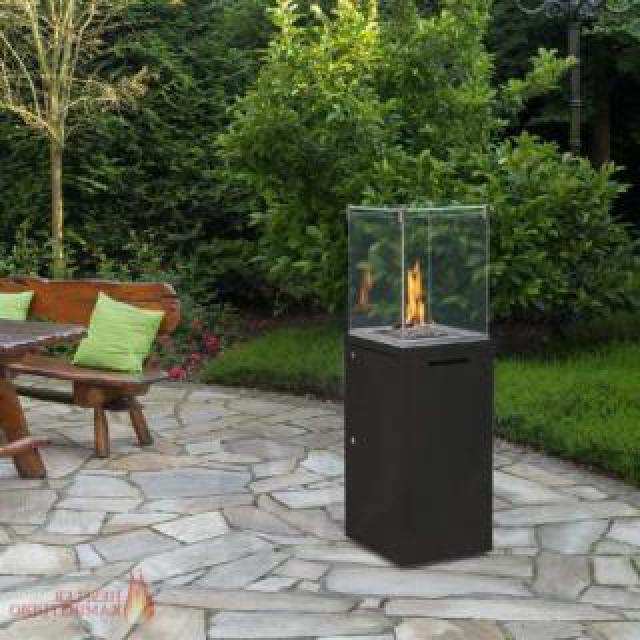Fire: (394, 254, 436, 346)
